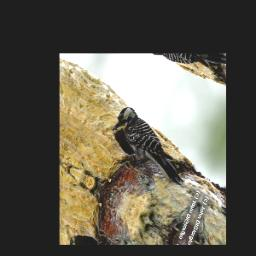Woodpecker: (104, 101, 198, 199)
